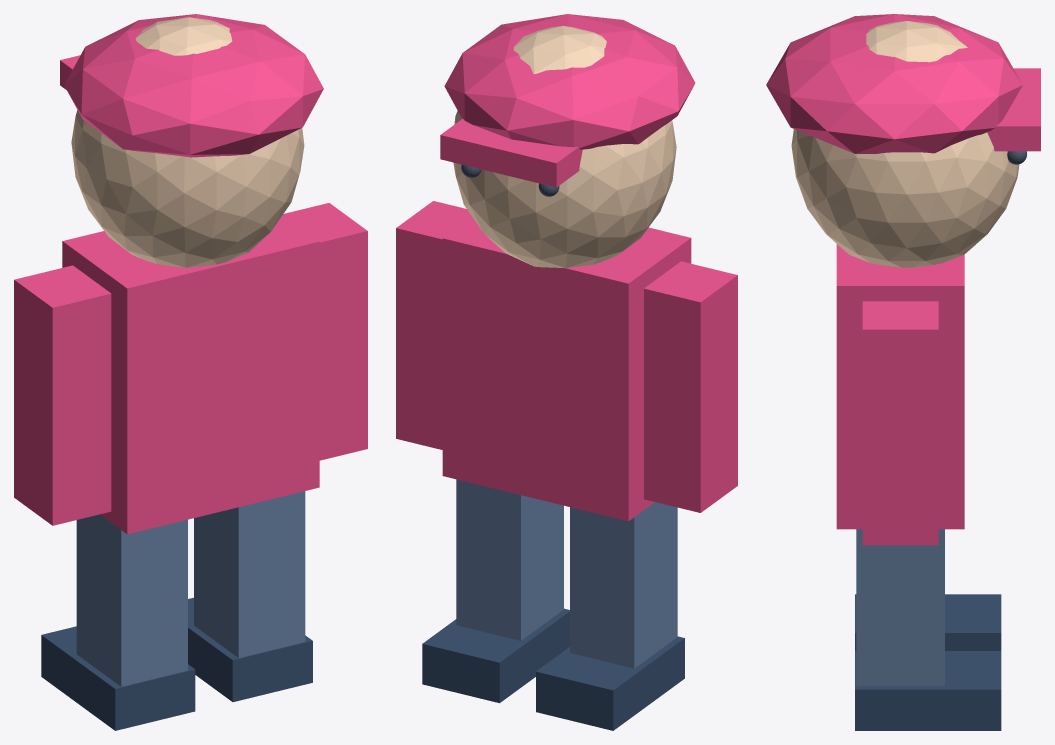
The model's file is player_red.glb.
3 views of the same model, side by side, from view 1: azimuth 30°, elevation 25°; view 2: azimuth 150°, elevation 25°; view 3: azimuth 270°, elevation 25° (orthographic). The views are drawn at different scales.
Parts seen in each view (by area): view 1: Body, Cap, Head, Arm_L, Leg_L, Leg_R, Arm_R, Shoe_L, Shoe_R; view 2: Body, Cap, Arm_L, Head, Leg_L, Leg_R, Arm_R, Shoe_L, Shoe_R, CapBrim; view 3: Head, Cap, Arm_R, Body, Leg_R, Shoe_R, Shoe_L, CapBrim.
Boxes of the visible parts, box(x1,y1,x2,y2) form: Body: box(62, 215, 319, 534); Cap: box(64, 14, 323, 157); Head: box(71, 17, 304, 267); Arm_L: box(14, 265, 111, 525); Leg_L: box(76, 514, 187, 686); Leg_R: box(194, 491, 305, 657); Arm_R: box(283, 203, 367, 460); Shoe_L: box(41, 626, 195, 730); Shoe_R: box(188, 597, 312, 701); Body: box(442, 217, 691, 521); Cap: box(444, 14, 695, 149); Arm_L: box(644, 261, 737, 512); Head: box(453, 26, 676, 268); Leg_L: box(570, 502, 677, 668); Leg_R: box(456, 479, 563, 640); Arm_R: box(396, 201, 471, 449); Shoe_L: box(536, 636, 684, 730); Shoe_R: box(422, 608, 569, 703); CapBrim: box(440, 118, 582, 187); Head: box(791, 21, 1019, 267); Cap: box(766, 14, 1022, 153); Arm_R: box(862, 301, 938, 545); Body: box(836, 244, 964, 529); Leg_R: box(856, 529, 944, 686); Shoe_R: box(855, 651, 1001, 730); Shoe_L: box(855, 594, 1001, 650); CapBrim: box(987, 68, 1040, 151).
Size of the model in its own units: 1.18 by 2.36 by 0.9014.
